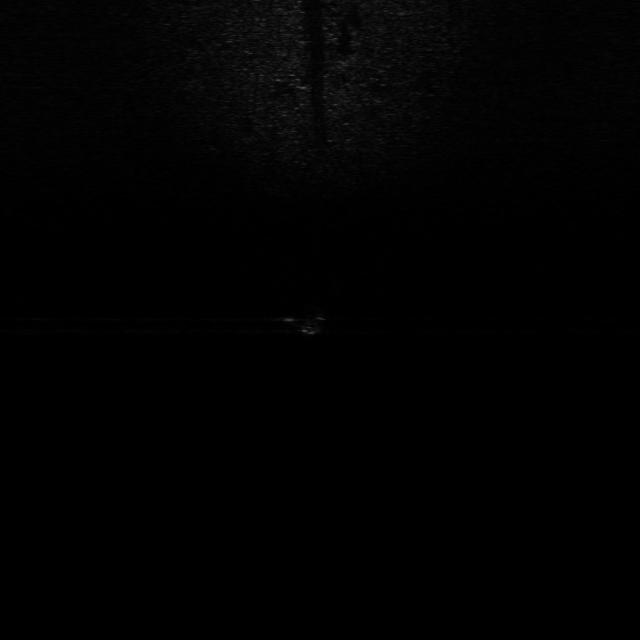human body: (272, 293, 329, 342)
